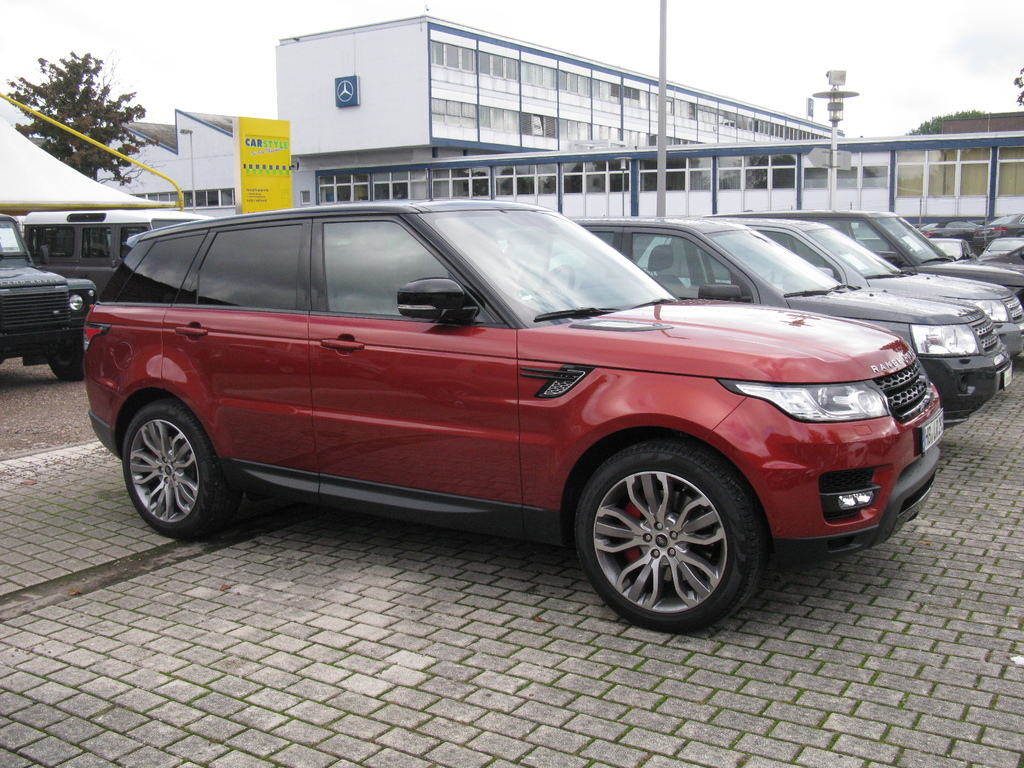Car: (0, 196, 1023, 627)
